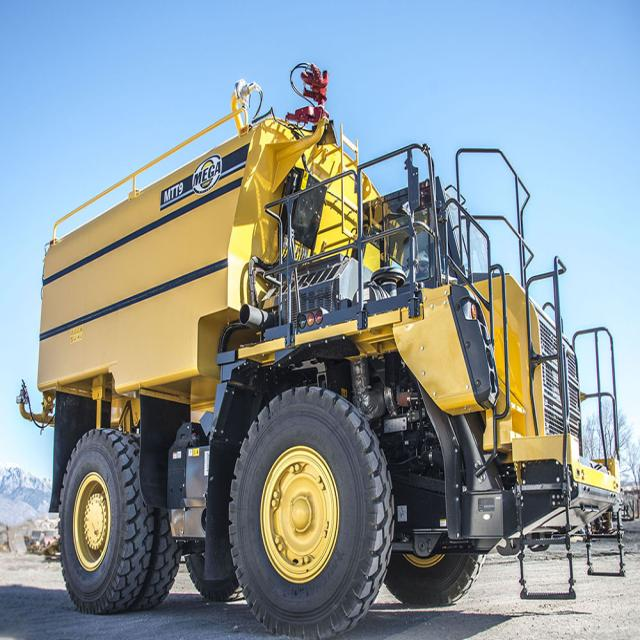dump_truck: (44, 96, 618, 640)
